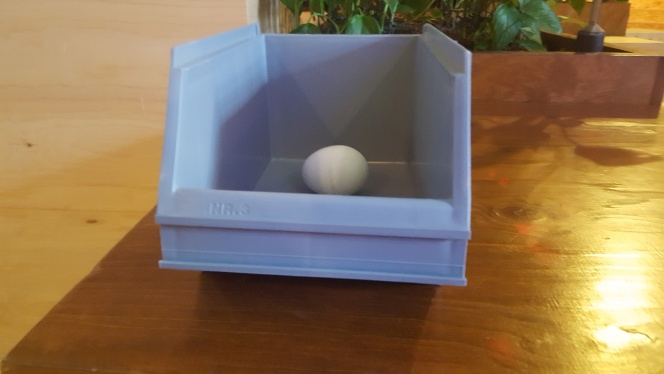egg: (302, 145, 369, 196)
tray_front: (157, 45, 475, 286)
